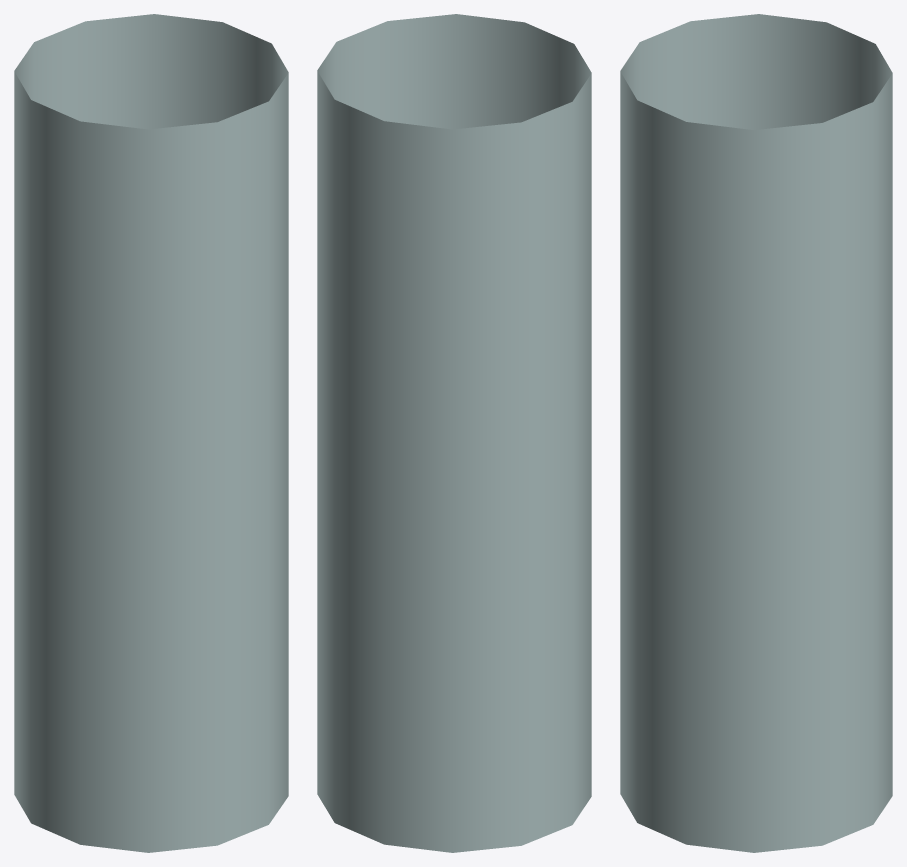
The model's file is spring_HIGH.obj.
The picture shows the model from 3 angles, left to right: view 1: azimuth 30°, elevation 25°; view 2: azimuth 150°, elevation 25°; view 3: azimuth 270°, elevation 25°; orthographic projection.
Parts seen in each view (by area): view 1: spring_HIGH.obj; view 2: spring_HIGH.obj; view 3: spring_HIGH.obj.
Boxes of the visible parts, <box> form: spring_HIGH.obj: <box>14,14,288,852</box>; spring_HIGH.obj: <box>317,14,591,852</box>; spring_HIGH.obj: <box>620,14,892,852</box>.
Size of the model in its own units: 0.1695 by 0.4915 by 0.168.
